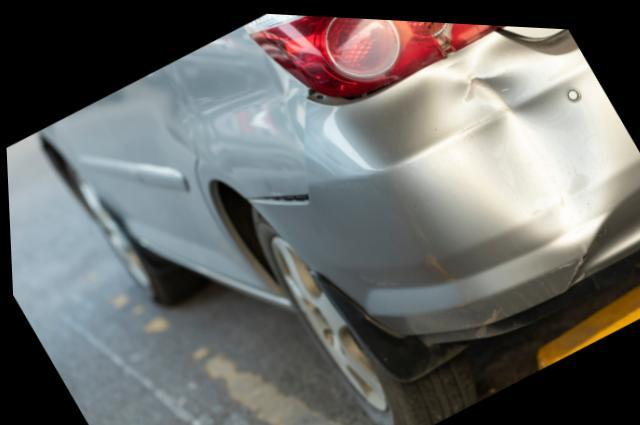dent: (457, 62, 607, 245), (162, 46, 303, 152)
dislocated part: (247, 59, 581, 343)
lamp broken: (242, 11, 499, 96)
